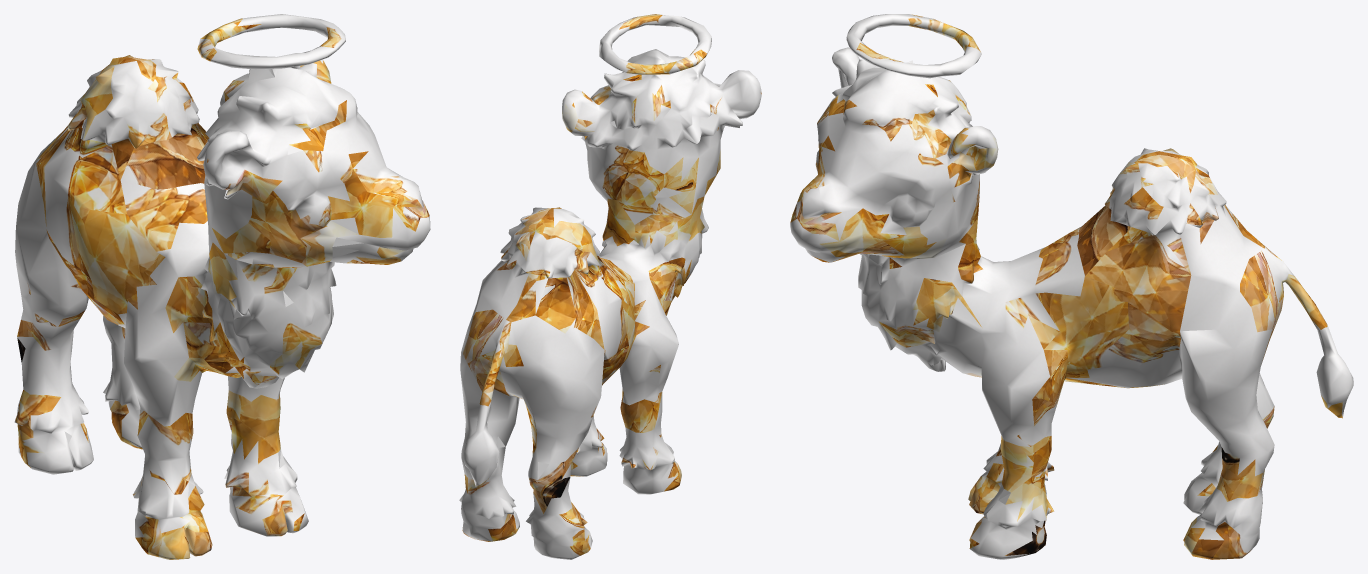
The model's file is dawn_camel_gold_5k.fbx.
3 views of the same model, side by side, from view 1: azimuth 30°, elevation 25°; view 2: azimuth 150°, elevation 25°; view 3: azimuth 270°, elevation 25° (orthographic). The views are drawn at different scales.
Parts seen in each view (by area): view 1: dawn_camel_gold_decimated; view 2: dawn_camel_gold_decimated; view 3: dawn_camel_gold_decimated.
Part boxes in pixels (bbox=[...]): dawn_camel_gold_decimated: bbox=[14, 14, 430, 559]; dawn_camel_gold_decimated: bbox=[459, 14, 761, 559]; dawn_camel_gold_decimated: bbox=[790, 14, 1353, 559].
Size of the model in its own units: 0.7371 by 1.84 by 1.91.
